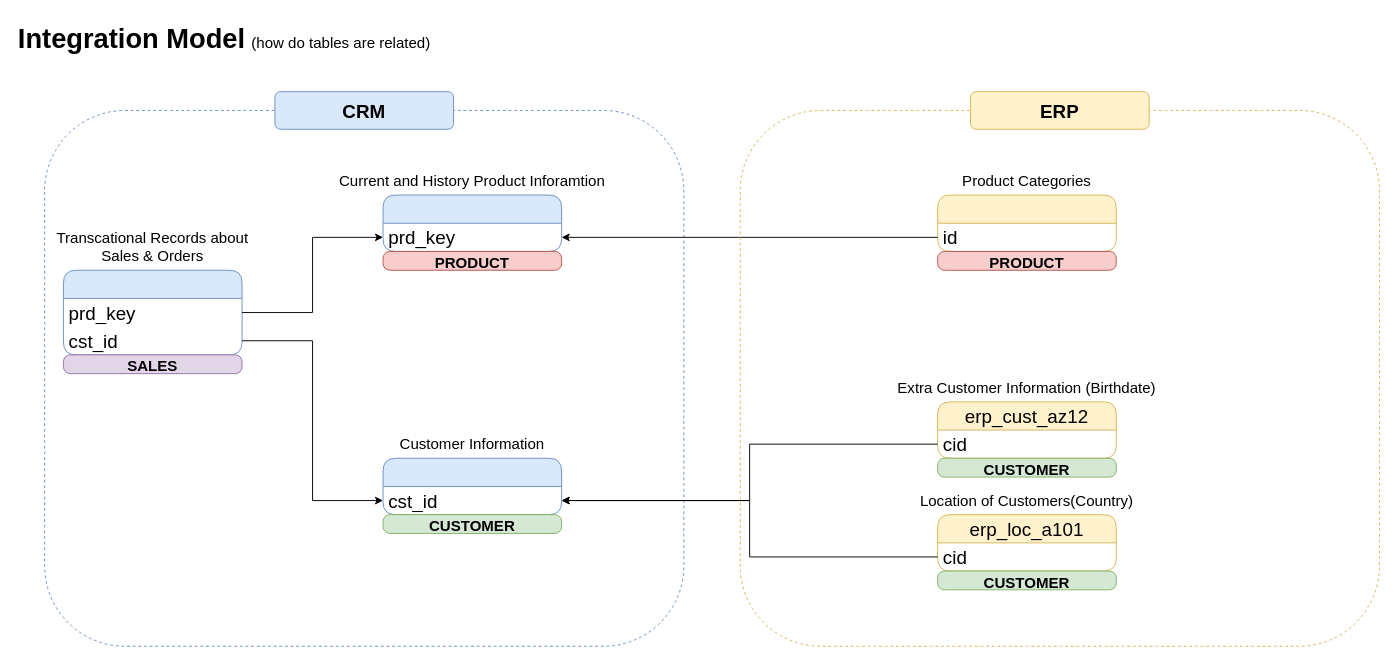
Image size: 1396x663. Some labels were removed from this diagram. The box of each missing label's shape, as (x1, y1, x2, y2) in pixels:
crm_cust_info: (382, 457, 562, 515)
crm_prd_info: (382, 194, 562, 251)
crm_sales_details: (63, 269, 242, 355)
erp_px_cat_g1v2: (937, 194, 1116, 251)
